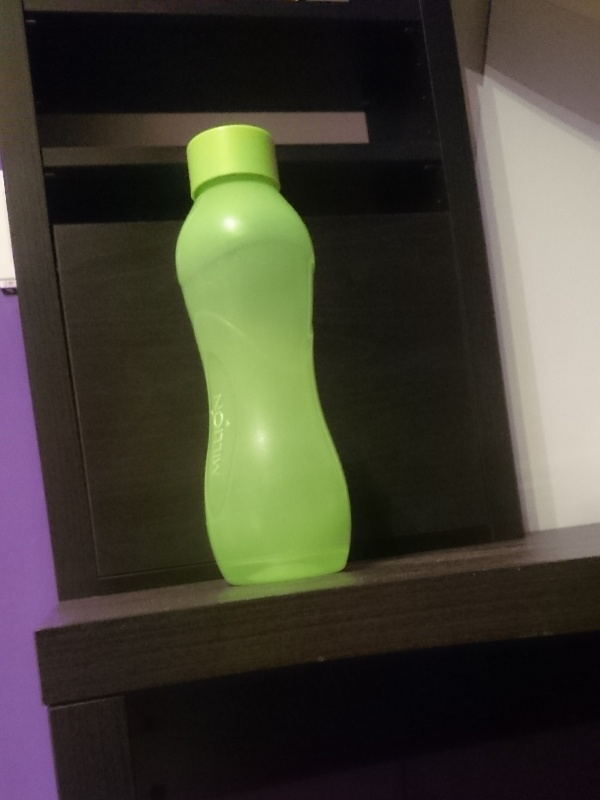my bottle: (172, 125, 350, 588)
